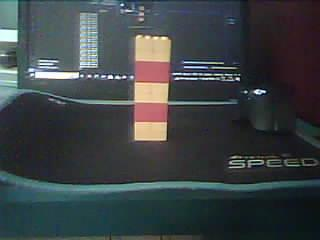lego: (134, 33, 172, 142)
